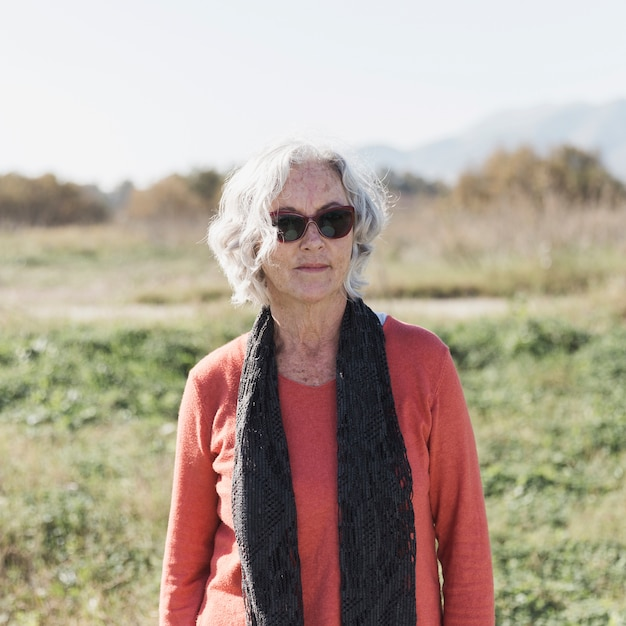young: (216, 133, 375, 317)
